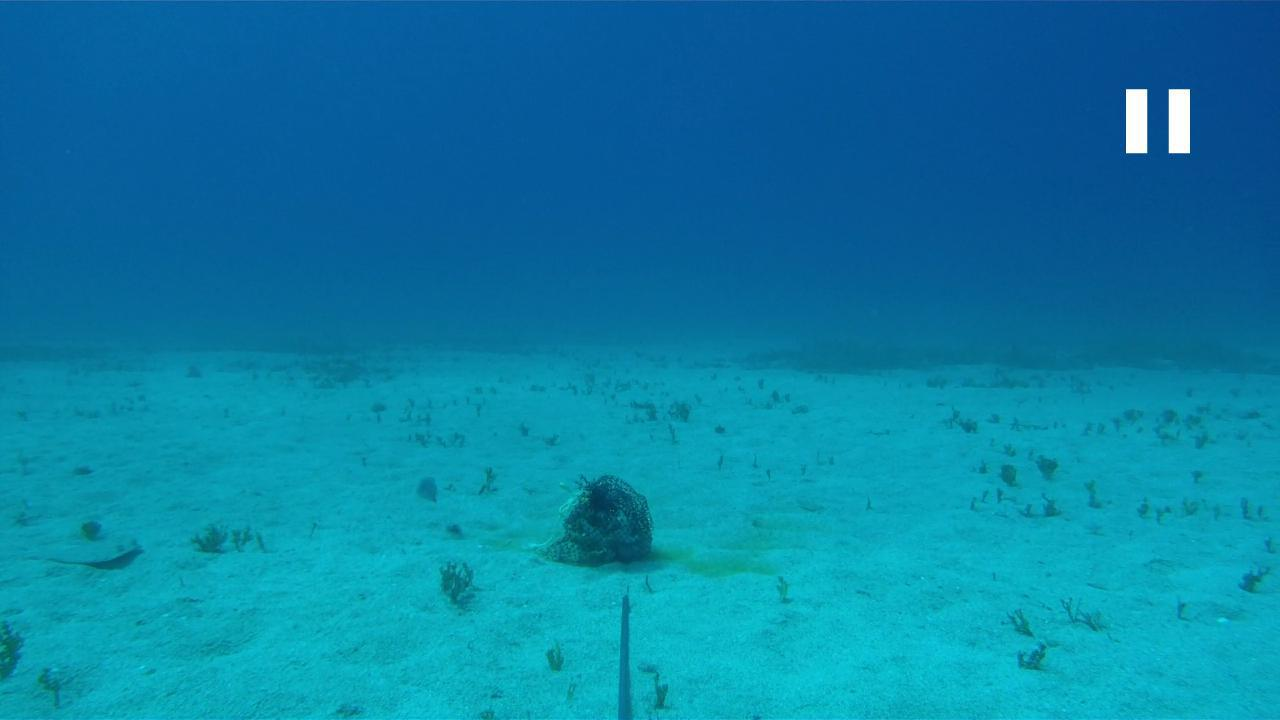bothus: (16, 536, 141, 570)
